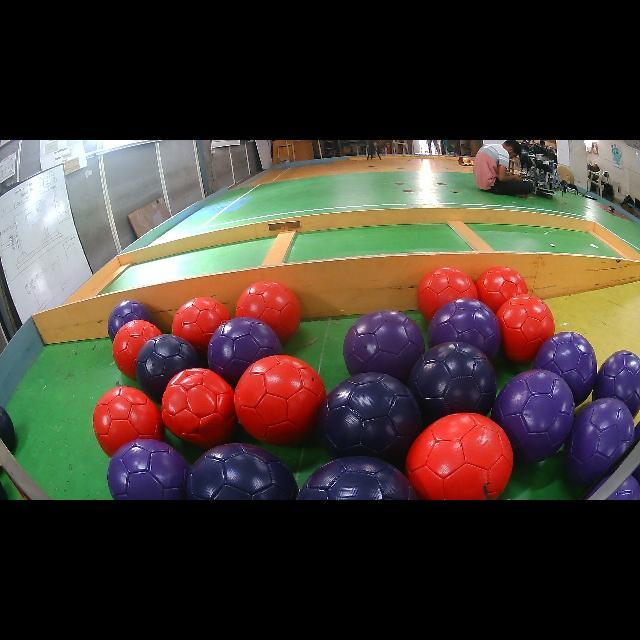B: (318, 372, 421, 465), (409, 342, 496, 426), (186, 444, 299, 500), (296, 456, 418, 500), (135, 334, 200, 400), (0, 406, 16, 451)
P: (491, 369, 575, 462), (564, 398, 635, 486), (342, 310, 425, 384), (208, 318, 282, 386), (108, 439, 190, 500), (534, 331, 598, 406), (428, 299, 500, 359), (592, 350, 640, 416), (108, 300, 152, 341)
R: (406, 412, 514, 500), (235, 355, 326, 446), (161, 368, 238, 450), (92, 386, 165, 456), (498, 295, 555, 364), (236, 281, 300, 342), (418, 266, 478, 321), (172, 298, 230, 351), (112, 320, 161, 380), (475, 266, 528, 312)
